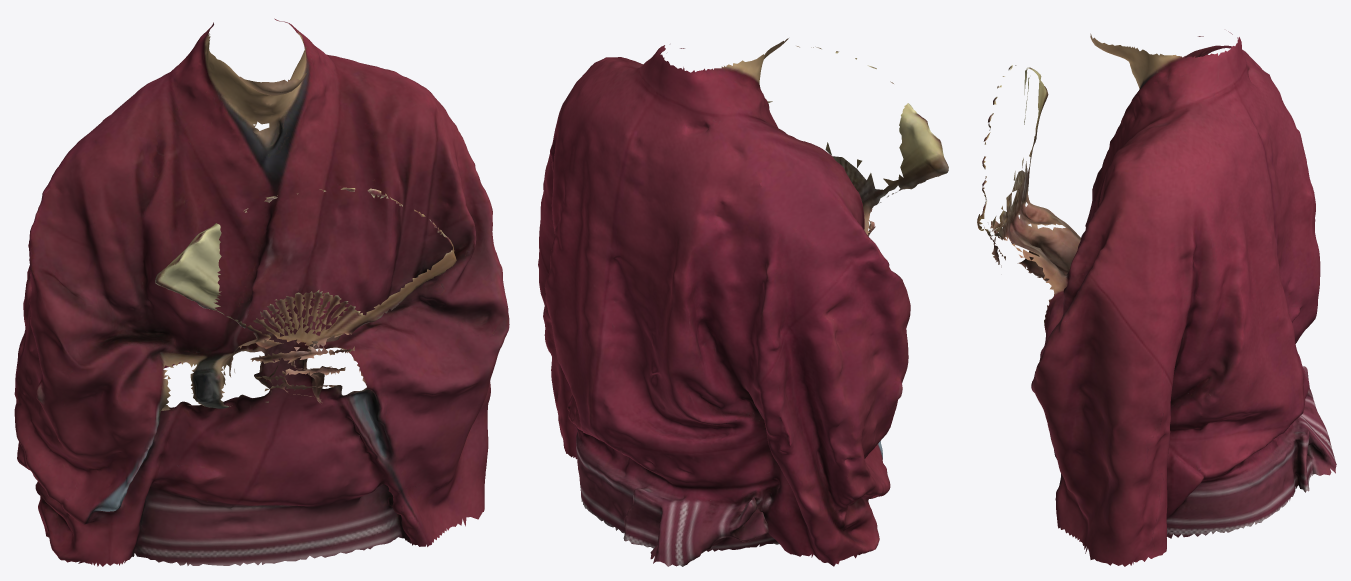
The model's file is toda_torso.glb.
3 views of the same model, side by side, from view 1: azimuth 30°, elevation 25°; view 2: azimuth 150°, elevation 25°; view 3: azimuth 270°, elevation 25° (orthographic). The views are drawn at different scales.
Visible parts, largest first — view 1: torso; view 2: torso; view 3: torso.
Part boxes in pixels (x1=…): torso: x1=14, y1=18, x2=509, y2=566; torso: x1=538, y1=38, x2=948, y2=566; torso: x1=977, y1=31, x2=1336, y2=566.
Bounding box in the file's own units: 5.64 × 6.3 × 4.58.
Materials: 1 (1 with a texture image).
